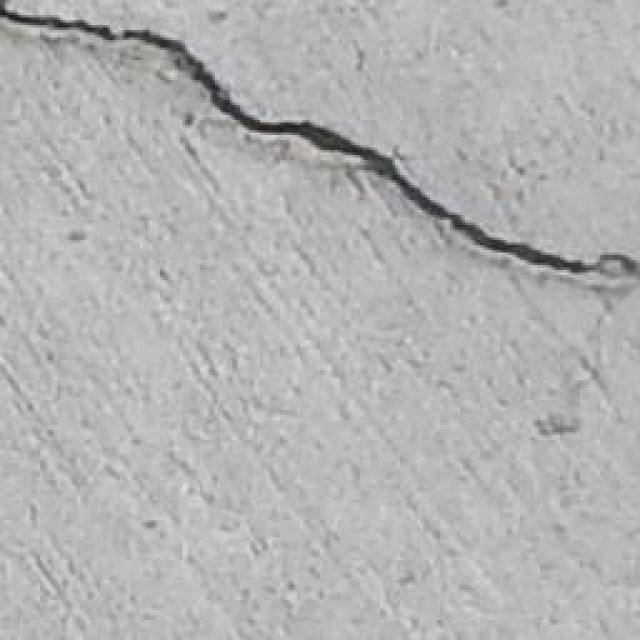concrete-crack: (0, 12, 640, 280)
